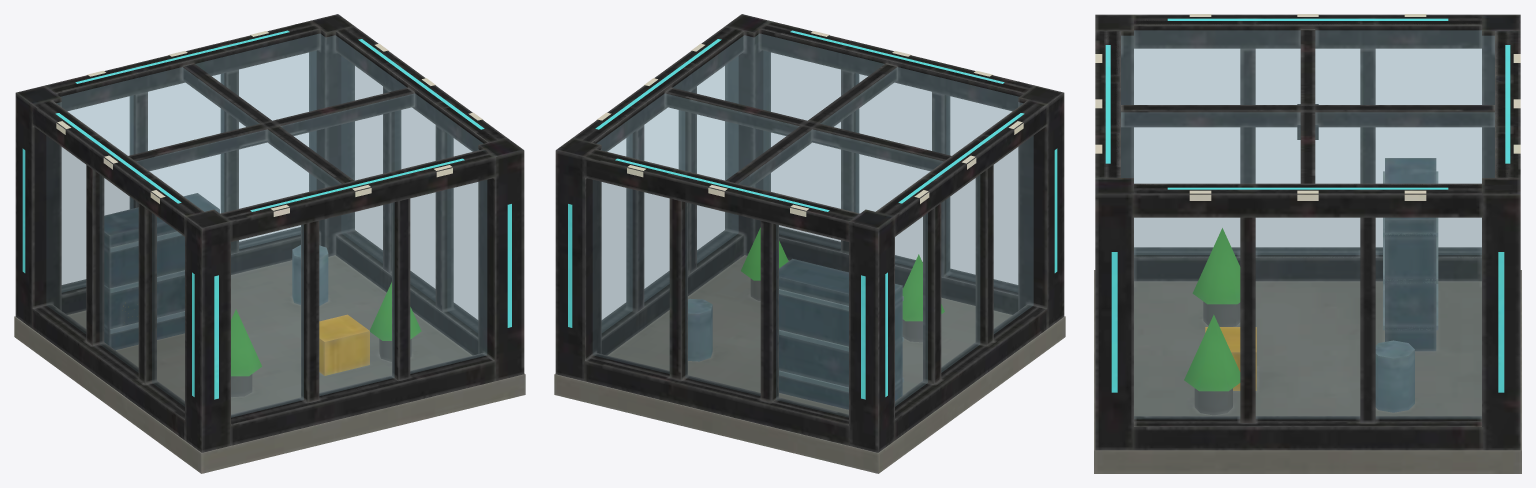
Rendered from hull_glass_carbon_closed.glb.
The picture shows the model from 3 angles, left to right: view 1: azimuth 30°, elevation 25°; view 2: azimuth 150°, elevation 25°; view 3: azimuth 270°, elevation 25°; orthographic projection. The views are drawn at different scales.
Visible parts, largest first — view 1: te_hull_glass_carbon_closed; view 2: te_hull_glass_carbon_closed; view 3: te_hull_glass_carbon_closed.
Part boxes in pixels (box(x1,y1,x2,y2)): te_hull_glass_carbon_closed: box(14, 14, 525, 473); te_hull_glass_carbon_closed: box(554, 14, 1065, 473); te_hull_glass_carbon_closed: box(1094, 14, 1521, 473).
Size of the model in its own units: 1 by 0.7218 by 1.
Materials: 2 (1 with a texture image).
